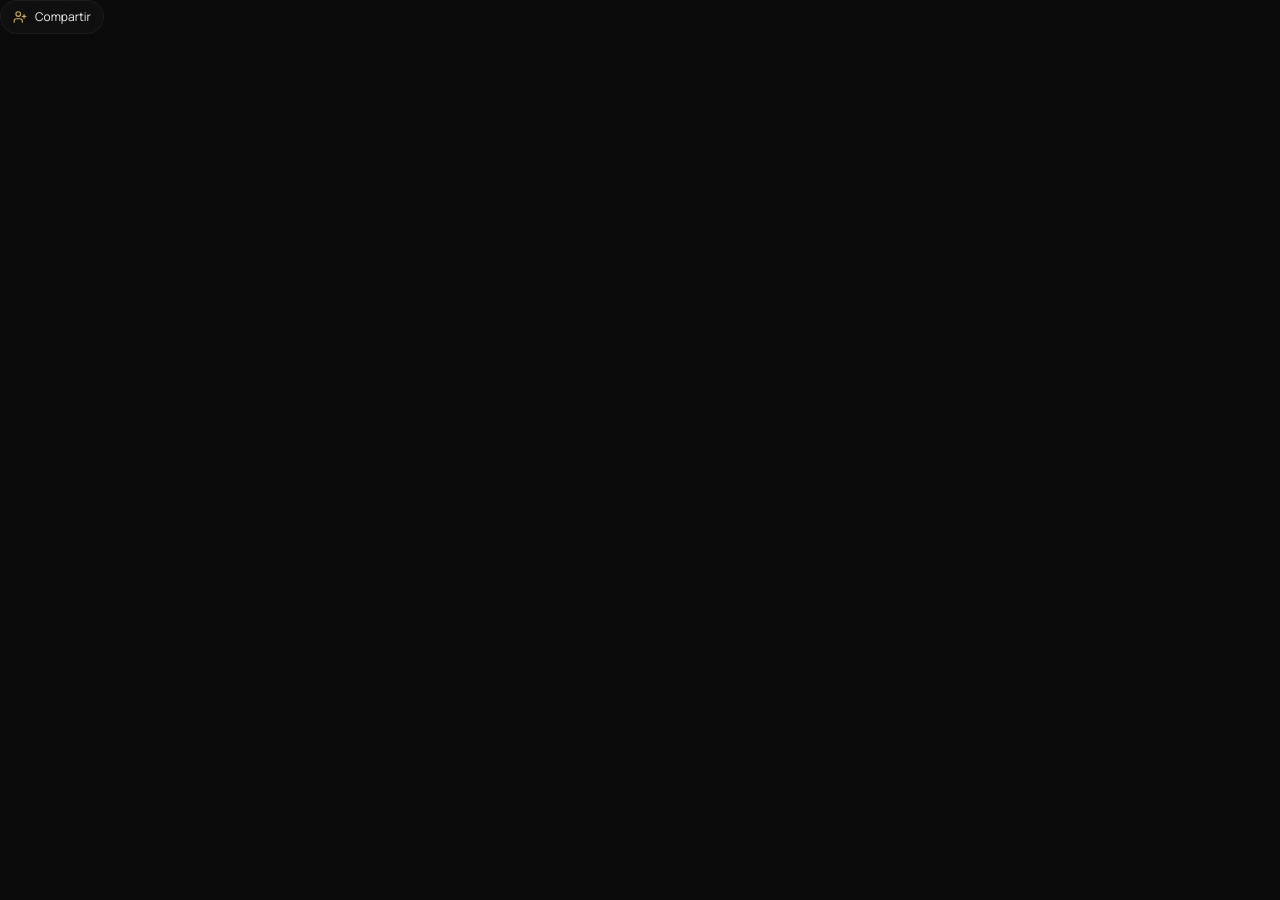
Test: la frase de invitados sale una sola vez
The image size is (1280, 900).
Click the button with aria-label "Compartir viaje" at coordinates (52, 17), box [0, 0, 104, 34]
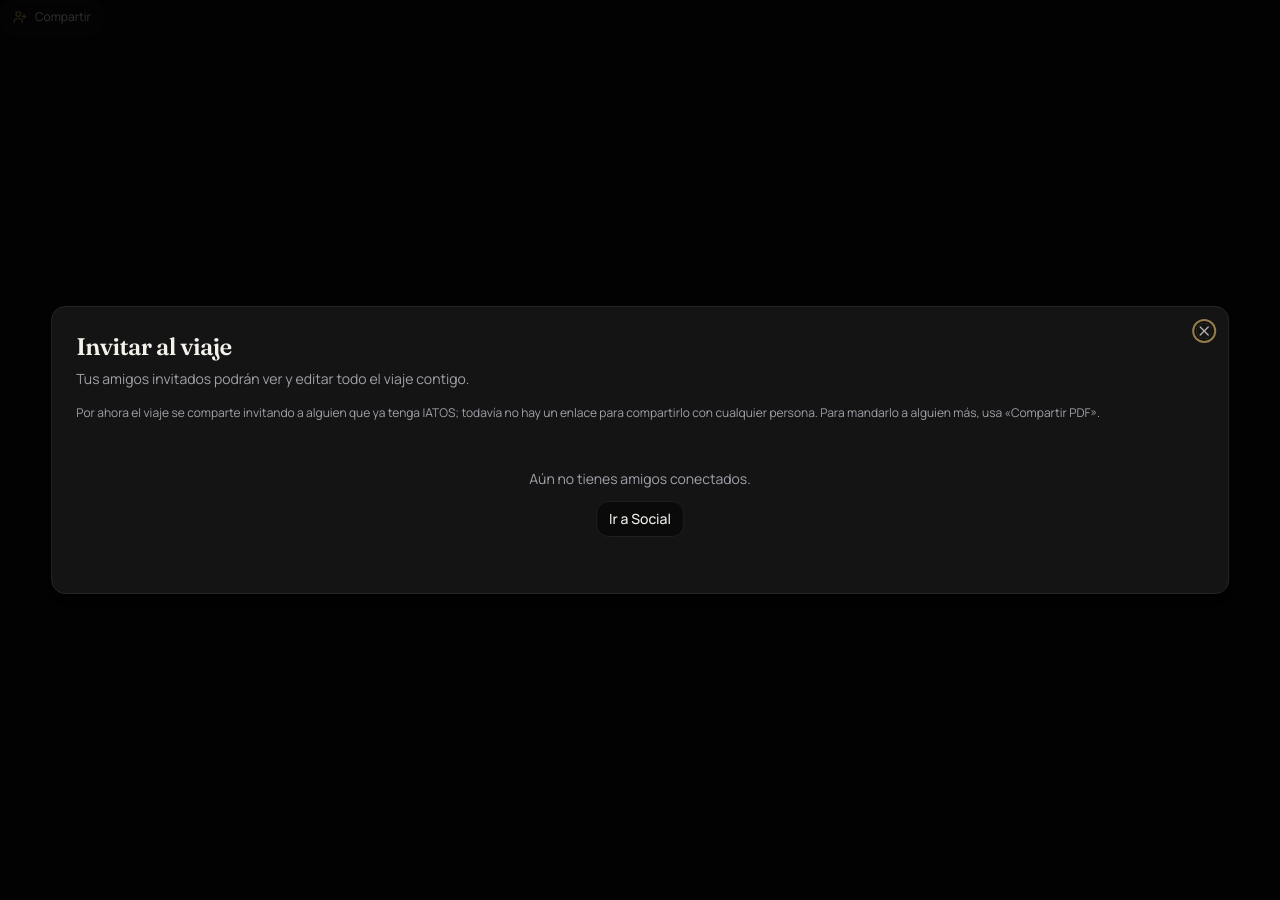
Expected: the text with test id "compartir-sin-enlace" is shown, [76, 405, 1204, 421]
Expected: the text "Tus amigos invitados podrán ver y editar todo el viaje contigo." is shown once, [76, 369, 469, 388]
